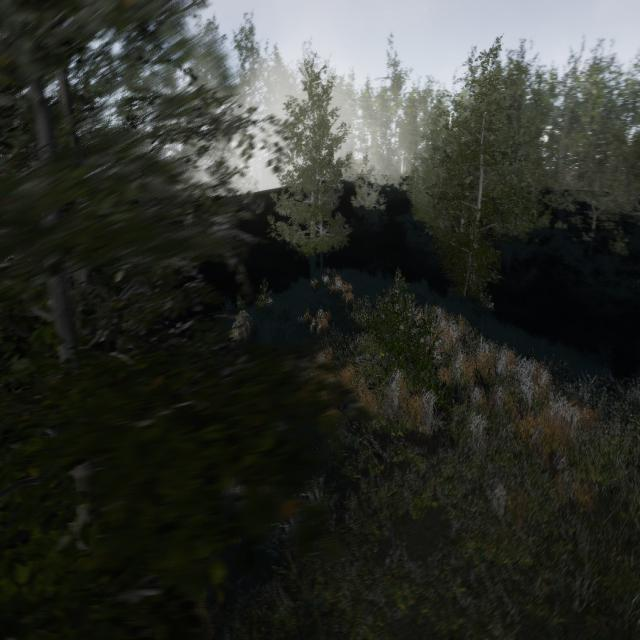Human: (308, 310, 318, 337)
